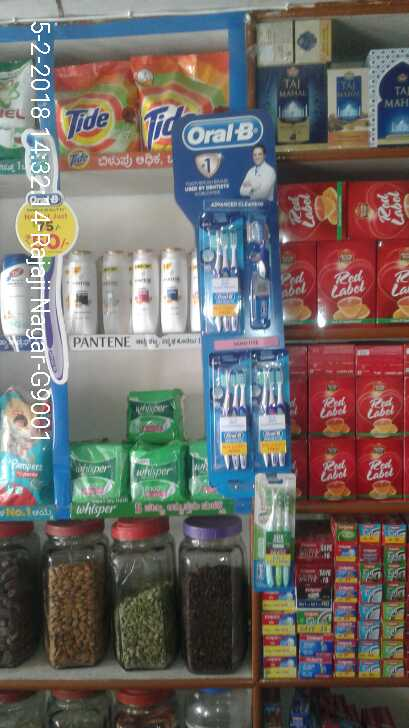beauty: (56, 247, 206, 340), (1, 253, 35, 338)
home: (135, 42, 234, 158), (41, 57, 148, 153)
pharmacy: (70, 383, 216, 505), (250, 478, 307, 601), (207, 346, 255, 470), (259, 346, 296, 488), (1, 388, 45, 507), (246, 207, 276, 346), (202, 209, 235, 334)
